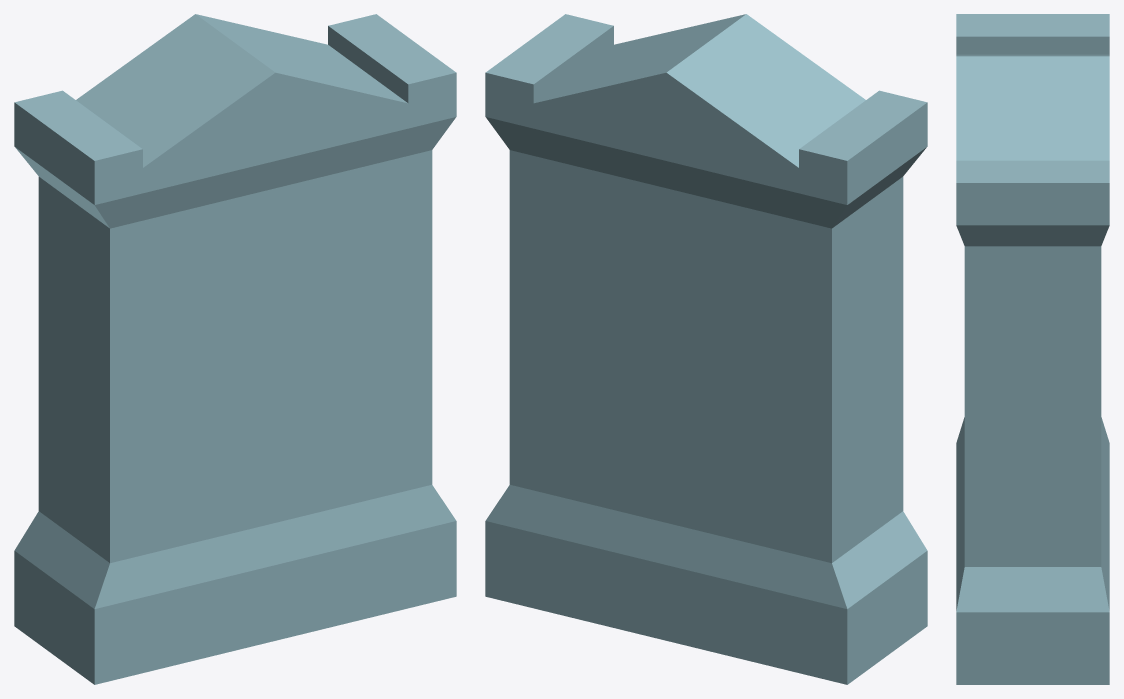
Rendered from gravestoneDecorative.fbx.
3 renders of one model, left to right at view 1: azimuth 30°, elevation 25°; view 2: azimuth 150°, elevation 25°; view 3: azimuth 270°, elevation 25°, orthographic. The views are drawn at different scales.
Visible parts, largest first — view 1: gravestoneDecorative; view 2: gravestoneDecorative; view 3: gravestoneDecorative.
Part boxes in pixels (left/top/right/bottom): gravestoneDecorative: left=14, top=14, right=456, bottom=684; gravestoneDecorative: left=485, top=14, right=927, bottom=684; gravestoneDecorative: left=956, top=14, right=1109, bottom=684.
Bounding box in the file's own units: 3.9 × 5.85 × 1.5.
